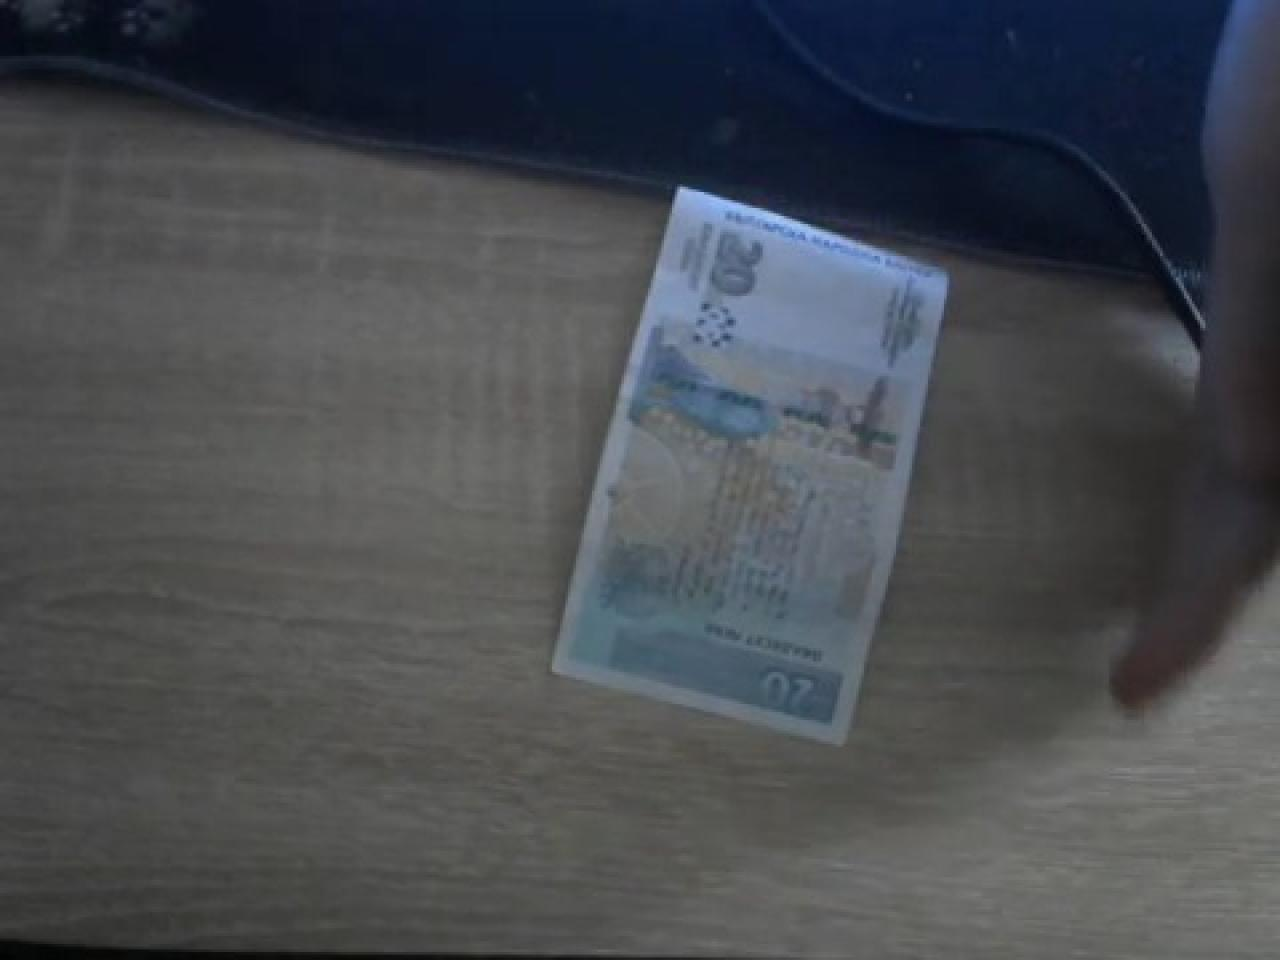20leva: (546, 190, 952, 746)
